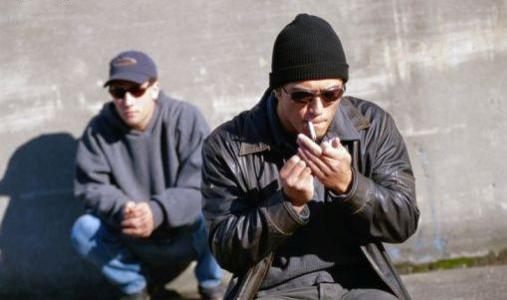person: (204, 14, 421, 300)
